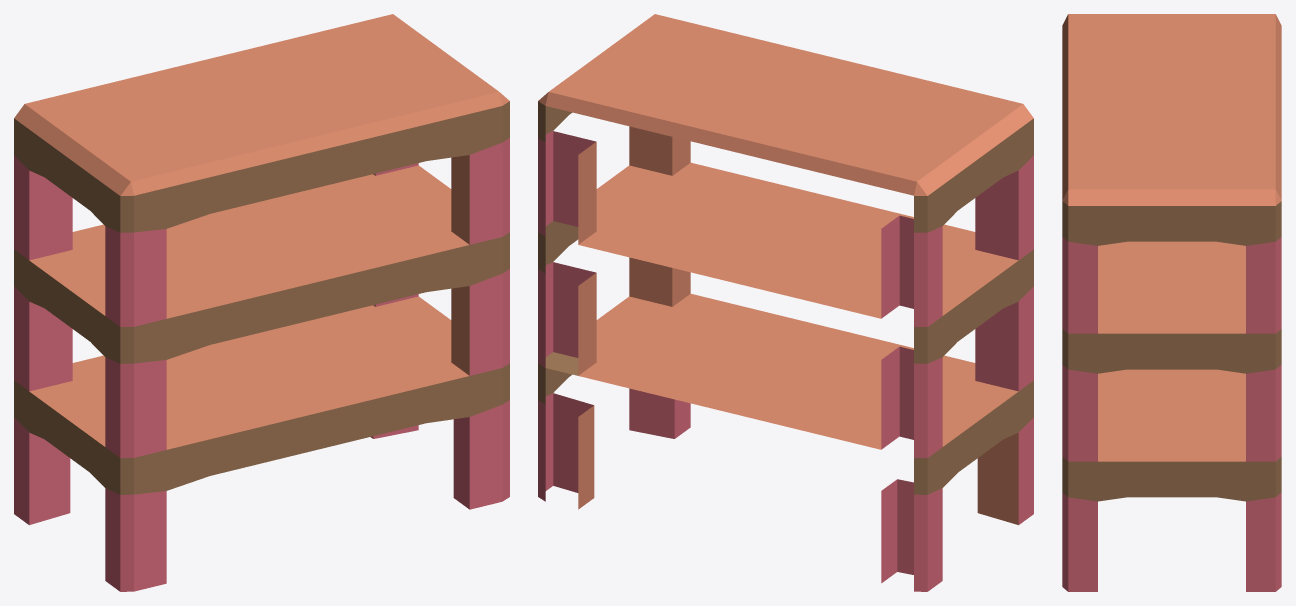
The model's file is shelvesNEW.fbx.
3 views of the same model, side by side, from view 1: azimuth 30°, elevation 25°; view 2: azimuth 150°, elevation 25°; view 3: azimuth 270°, elevation 25° (orthographic). The views are drawn at different scales.
Parts seen in each view (by area): view 1: New Shelf; view 2: New Shelf; view 3: New Shelf.
Part boxes in pixels (x1,y1,x2,y2): New Shelf: (14,14,509,591); New Shelf: (538,14,1033,591); New Shelf: (1062,14,1281,591).
Size of the model in its own units: 200 by 200 by 100.
